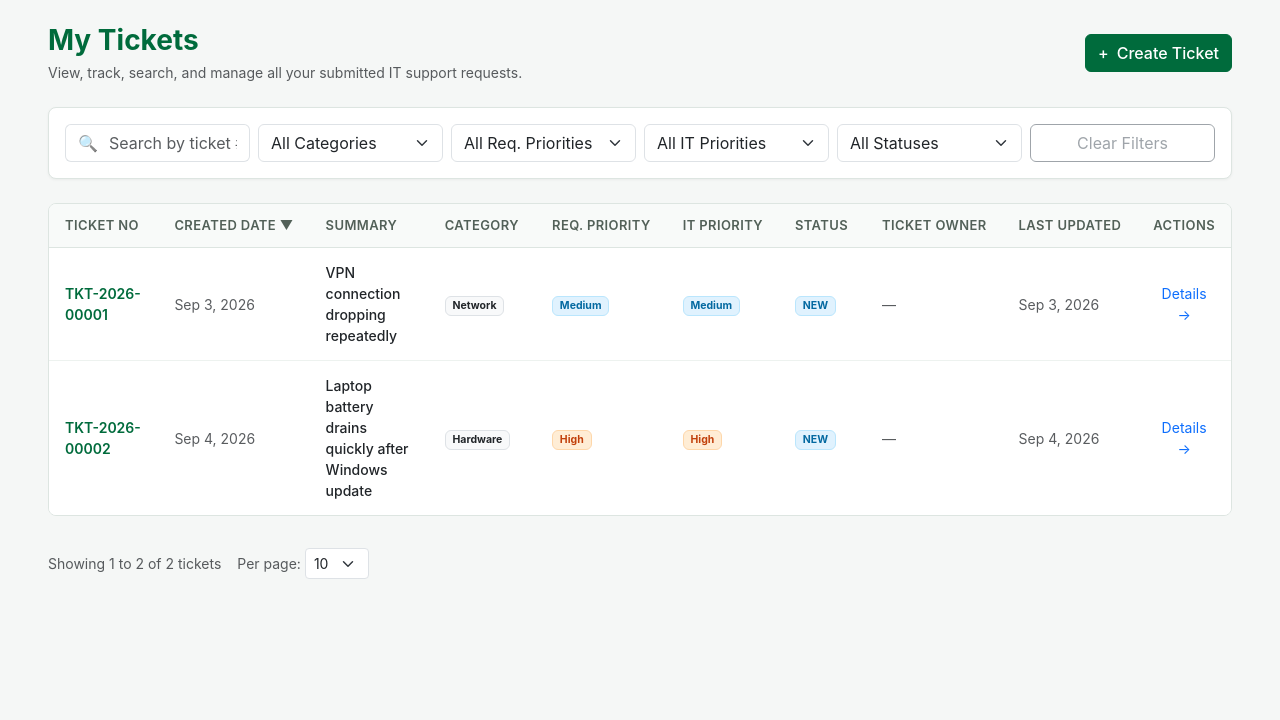
Test: My Tickets Screen (UI-05, UI-06) › UI-06.3: renders No-Results State when filters match 0 tickets and restores list when Clear Filters is clicked
Expected: the text "TKT-2026-00001" is shown, [49,248,158,361]
Type "nonexistent" into the field with placeholder "Search by ticket # or summary...".
click(180, 143); type("nonexistent")  # box [109,124,250,162]
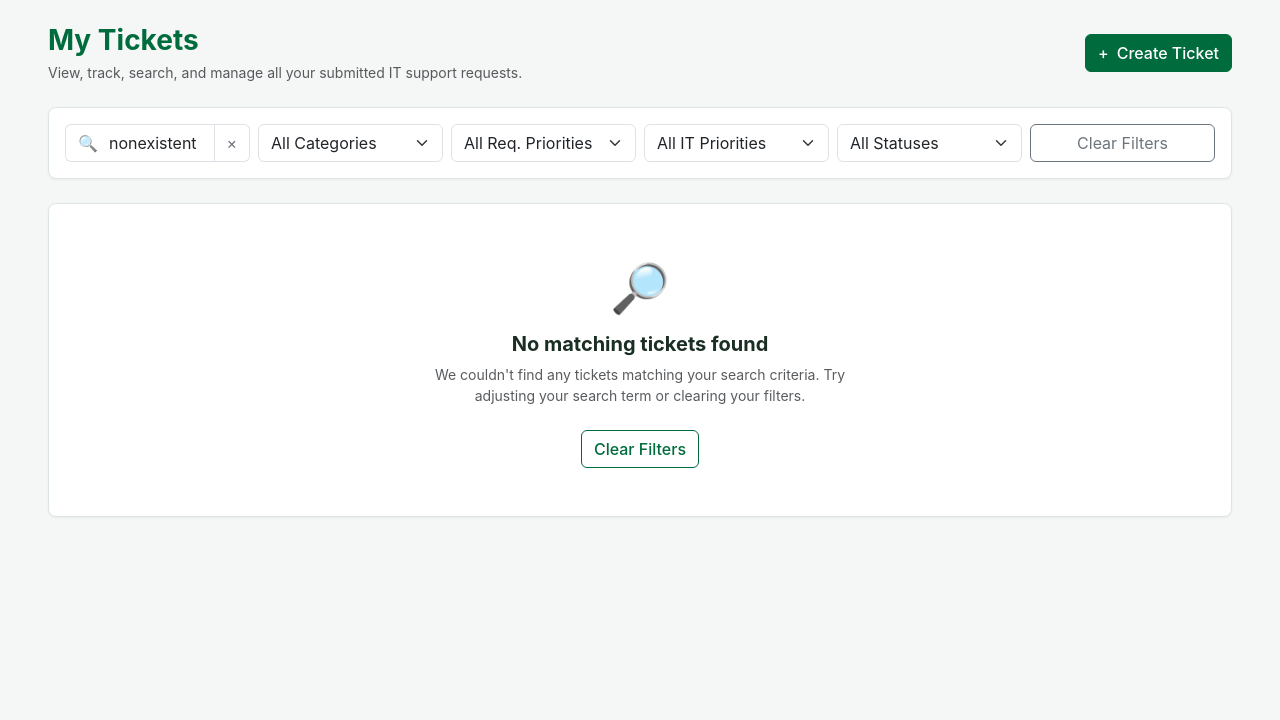
Expected: the heading "No matching tickets found" is shown, [512,332,768,356]
Click the 1st button "Clear Filters".
click(1122, 143)  # box [1030,124,1215,162]
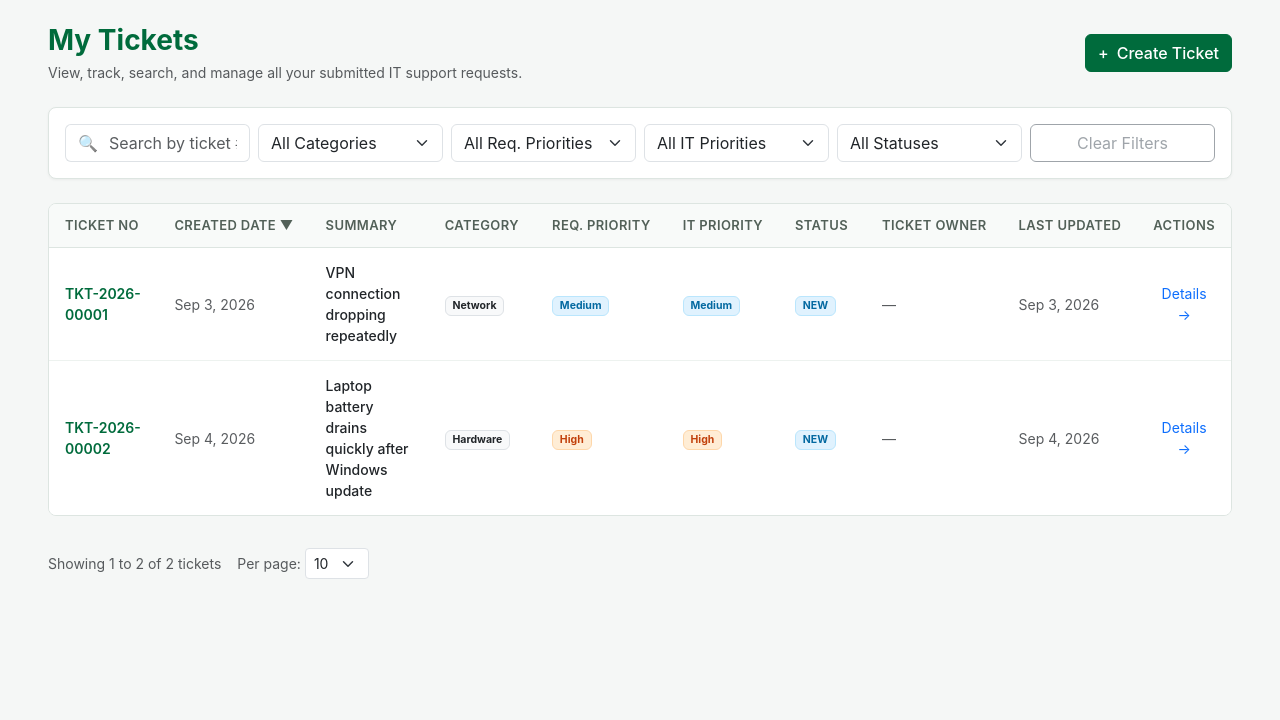
Expected: the text "TKT-2026-00001" is shown, [49,248,158,361]
